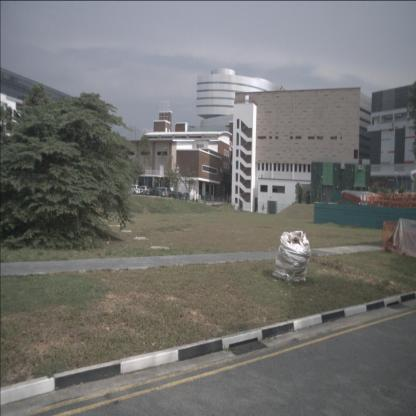vehicle-car: (126, 185, 140, 195), (145, 187, 160, 196), (155, 188, 168, 198), (132, 186, 145, 195), (137, 186, 150, 194), (162, 189, 172, 197), (181, 192, 189, 201), (174, 192, 183, 199), (170, 191, 176, 198)
